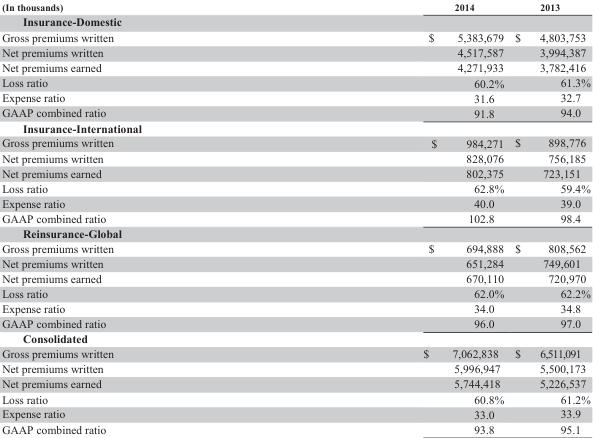table: (1, 1, 589, 435)
table column: (1, 1, 267, 435), (267, 1, 508, 435), (508, 1, 589, 435)
table column header: (1, 1, 589, 13)
table projected row header: (1, 13, 589, 29), (1, 120, 589, 135), (1, 225, 589, 240), (1, 330, 589, 345)
table row: (1, 13, 589, 29), (1, 74, 589, 90), (1, 405, 589, 421), (1, 29, 589, 44), (1, 44, 589, 59), (1, 59, 589, 74), (1, 90, 589, 105), (1, 105, 589, 120), (1, 120, 589, 135), (1, 135, 589, 150), (1, 150, 589, 165), (1, 165, 589, 180), (1, 180, 589, 195), (1, 195, 589, 210), (1, 210, 589, 225), (1, 225, 589, 240), (1, 240, 589, 255), (1, 255, 589, 270), (1, 270, 589, 285), (1, 285, 589, 300), (1, 300, 589, 315), (1, 315, 589, 330), (1, 330, 589, 345), (1, 345, 589, 360), (1, 360, 589, 375), (1, 375, 589, 390), (1, 390, 589, 405), (1, 421, 589, 435), (1, 1, 589, 13)
